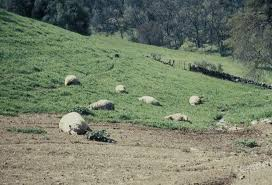sheep: (58, 110, 92, 140), (85, 98, 120, 117), (135, 93, 167, 110), (161, 108, 191, 126), (187, 93, 211, 111), (63, 73, 85, 88), (113, 83, 128, 96)
